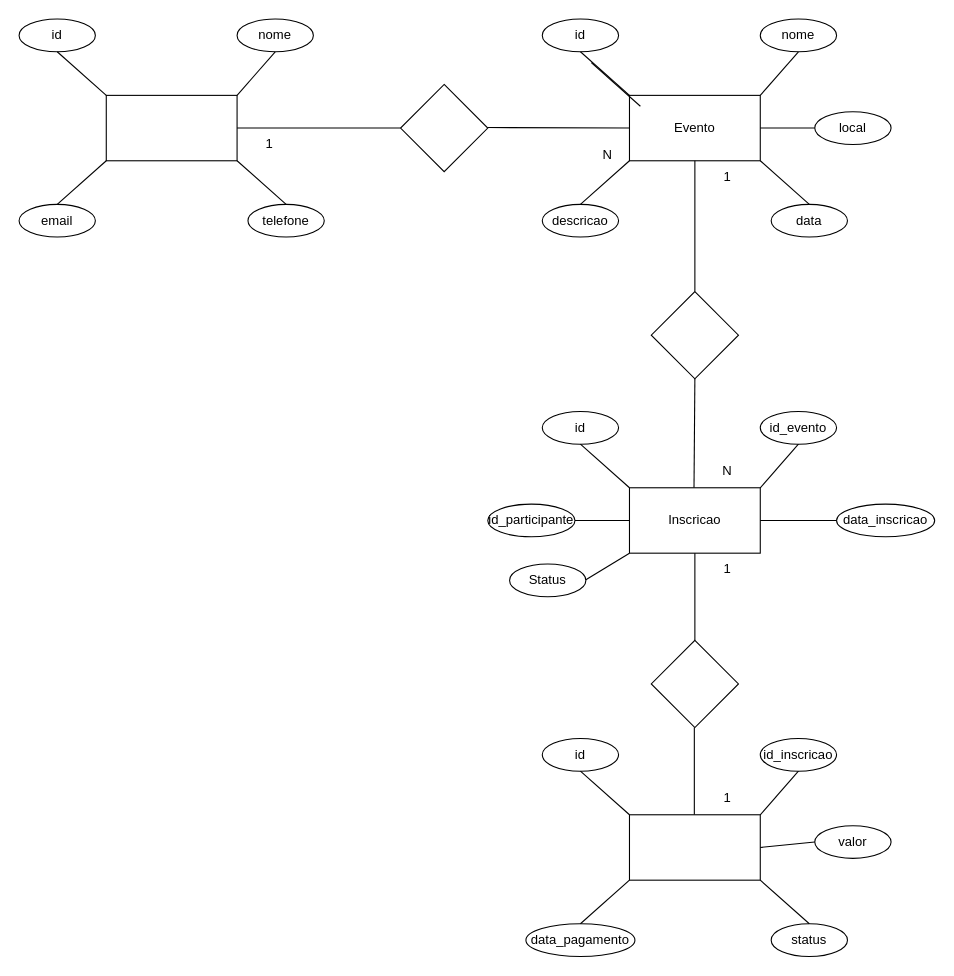
Some shapes in this 954 by 976 pixel diagram are drawn without their labels. Here are the shapes that lost their labels. From the top down, the centre of each, then its label:
At pixel 171 127: "Participante".
At pixel 443 127: "Participa".
At pixel 694 334: "Possui".
At pixel 694 683: "tem".
At pixel 694 847: "Pagamento".
